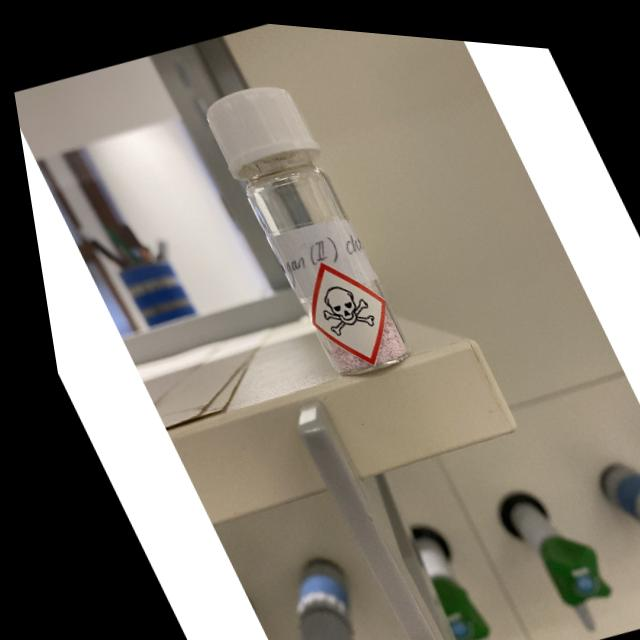acute toxicity: (297, 267, 375, 337)
